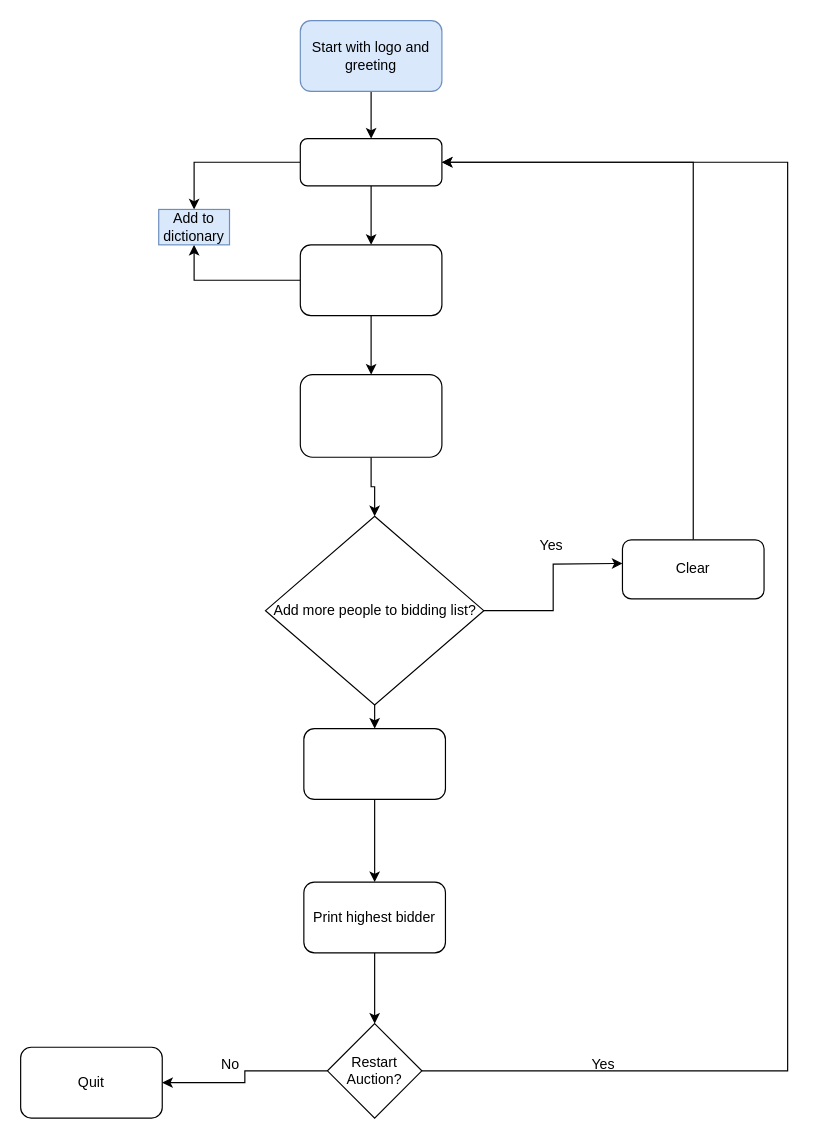
This 818x1139 diagram has some shape labels left out. Each missing label, with the centre of its shape:
"Add new bid to list" goes at [370,415].
"Calculate who has highest bid" goes at [374,763].
"Get bid amount" goes at [370,280].
"Get Name" goes at [370,161].
